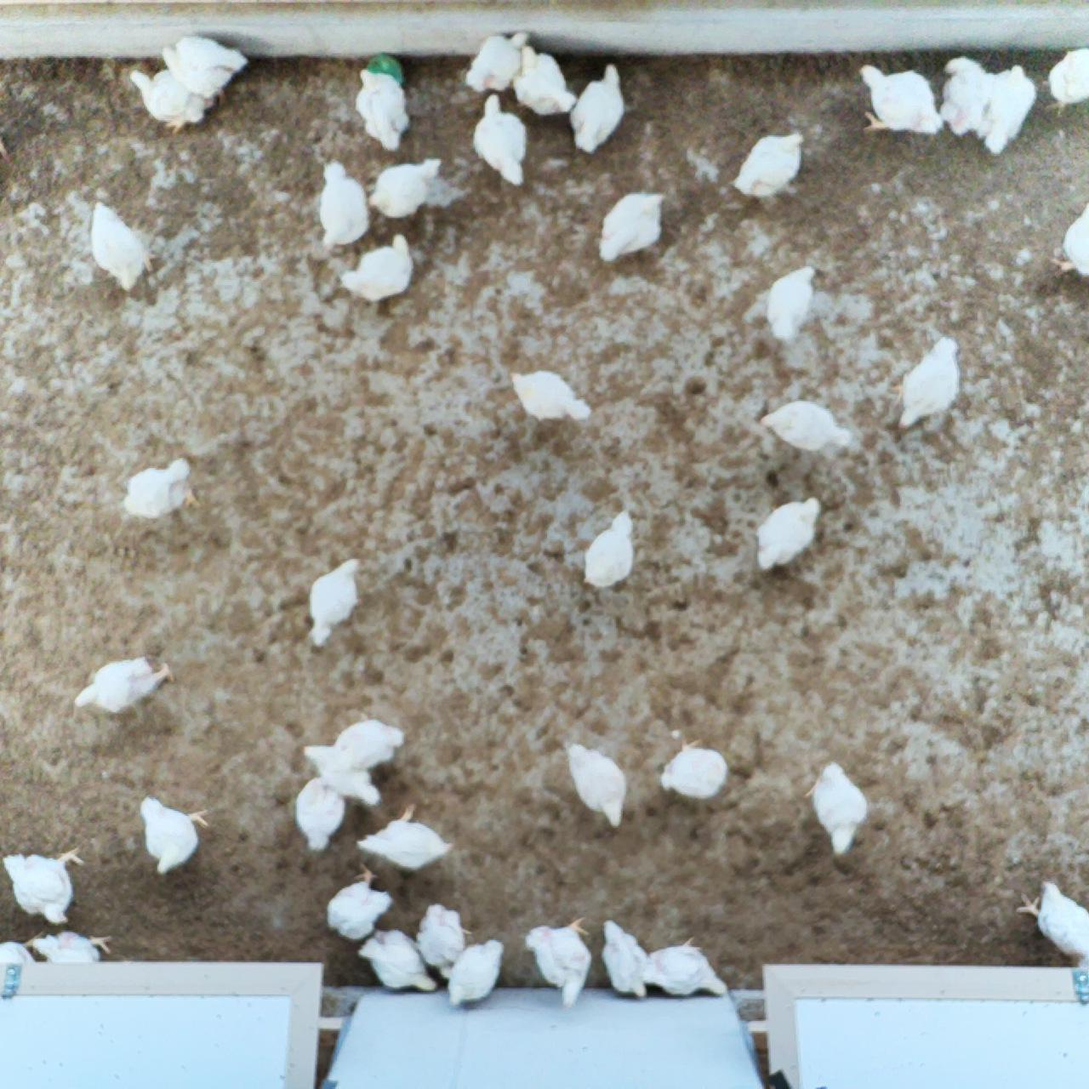chicken: (888, 334, 967, 431), (2, 844, 90, 926), (800, 761, 871, 859), (353, 804, 454, 868), (858, 61, 944, 136), (527, 914, 595, 1007), (90, 203, 161, 290), (1017, 881, 1089, 966), (157, 35, 250, 97), (570, 61, 634, 151), (640, 936, 733, 997), (123, 454, 204, 524), (733, 128, 809, 202), (71, 660, 175, 714), (564, 741, 627, 830), (342, 230, 416, 304), (140, 796, 208, 876), (302, 743, 384, 809), (758, 399, 852, 456), (306, 556, 365, 644), (132, 71, 215, 132), (475, 93, 528, 186), (359, 931, 439, 992), (983, 65, 1039, 151), (328, 862, 392, 937), (364, 157, 444, 217), (657, 736, 729, 800), (758, 496, 822, 568), (600, 189, 664, 261), (318, 158, 367, 252), (582, 505, 637, 588), (600, 918, 654, 1001), (941, 53, 995, 136), (356, 68, 409, 149), (462, 29, 530, 92), (510, 370, 592, 422), (764, 263, 815, 346), (515, 46, 576, 114), (417, 902, 473, 976), (447, 939, 506, 1007), (296, 774, 347, 851), (336, 718, 406, 772), (1045, 44, 1089, 115), (1053, 194, 1089, 277), (30, 932, 115, 965), (0, 936, 32, 970)
